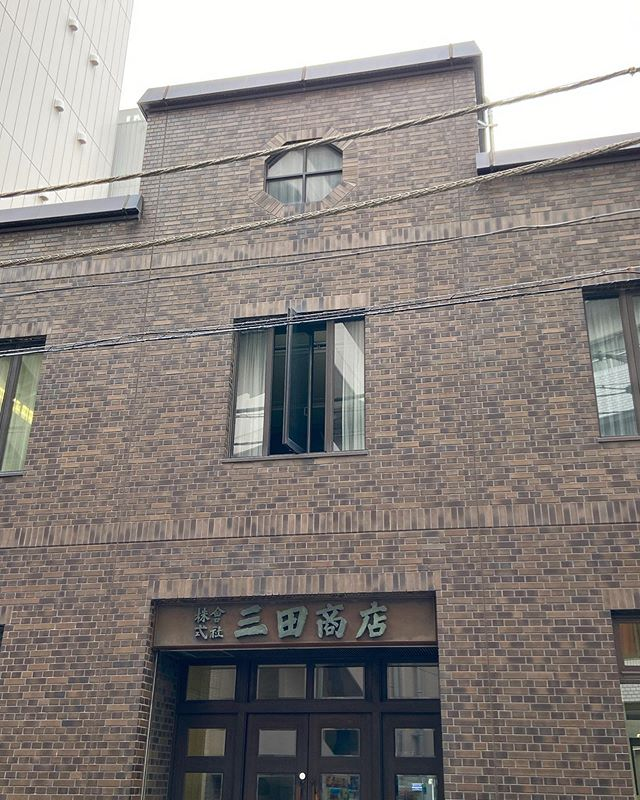building: (11, 87, 640, 800)
window: (238, 311, 370, 458), (265, 133, 355, 209)
